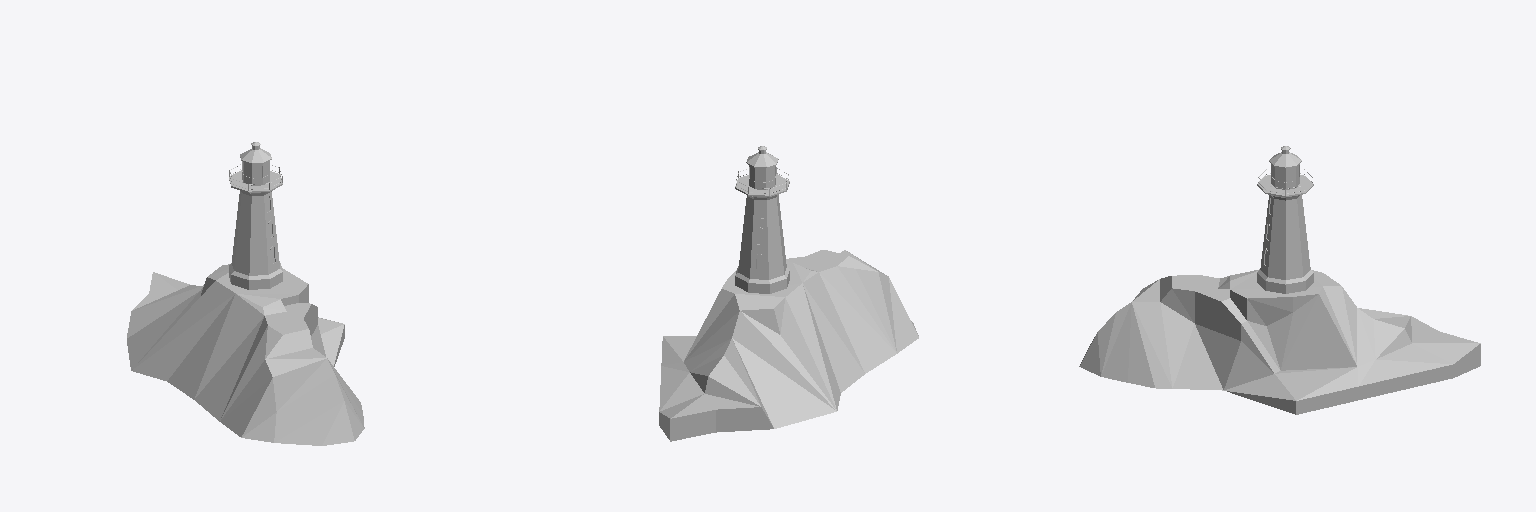
File: lighthouse.obj
The picture shows the model from 3 angles: view 1: azimuth 30°, elevation 25°; view 2: azimuth 150°, elevation 25°; view 3: azimuth 270°, elevation 25°; orthographic projection.
Size of the model in its own units: 1.29 by 1.41 by 2.3.